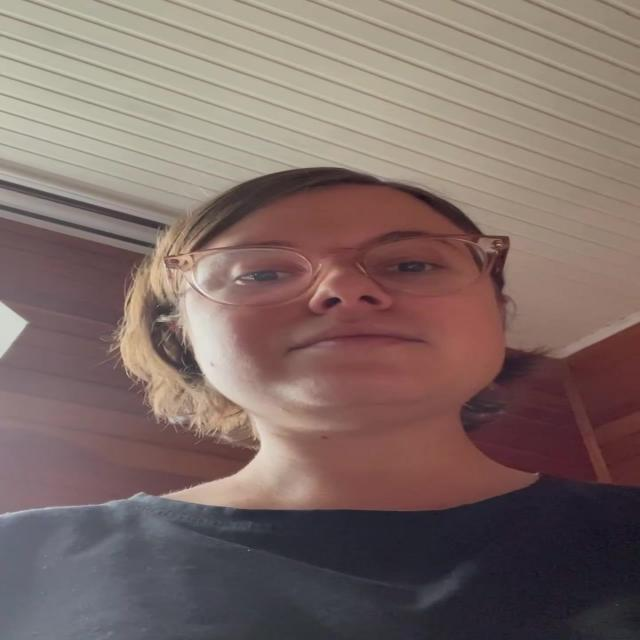eye: (228, 266, 298, 282), (377, 260, 444, 274)
nose: (316, 308, 388, 324)
